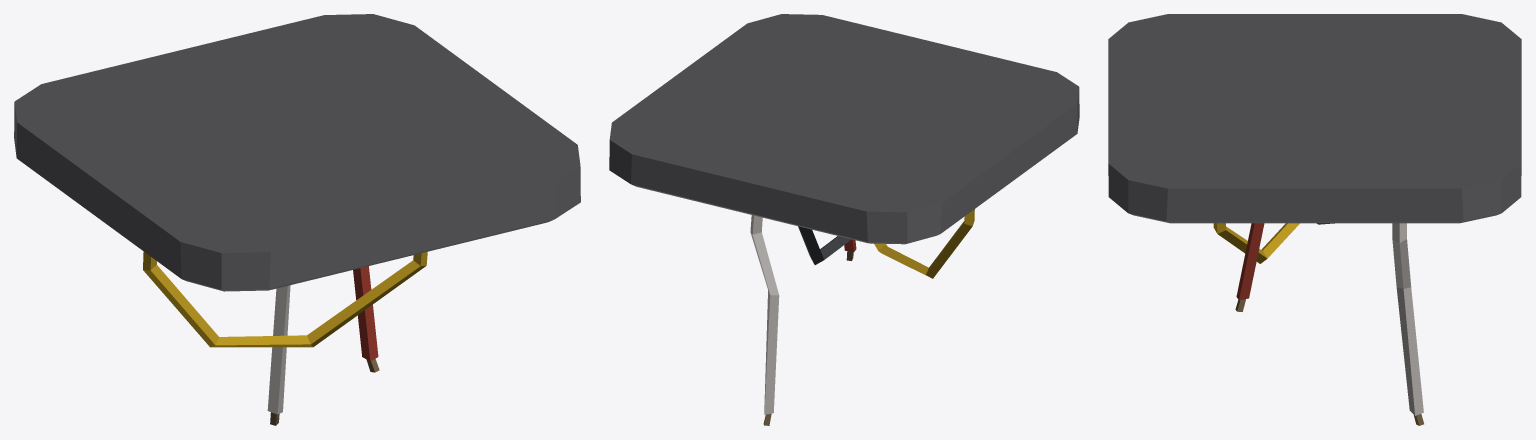
Rendered from SM_Prop_Wires_08.fbx.
The picture shows the model from 3 angles, left to right: view 1: azimuth 30°, elevation 25°; view 2: azimuth 150°, elevation 25°; view 3: azimuth 270°, elevation 25°; orthographic projection. The views are drawn at different scales.
Visible parts, largest first — view 1: SM_Prop_Wires_08; view 2: SM_Prop_Wires_08; view 3: SM_Prop_Wires_08.
Boxes of the visible parts, x1,y1,x2,y2 form: SM_Prop_Wires_08: [14, 14, 580, 425]; SM_Prop_Wires_08: [609, 14, 1079, 425]; SM_Prop_Wires_08: [1108, 14, 1521, 425].
Size of the model in its own units: 111 by 91.58 by 111.
